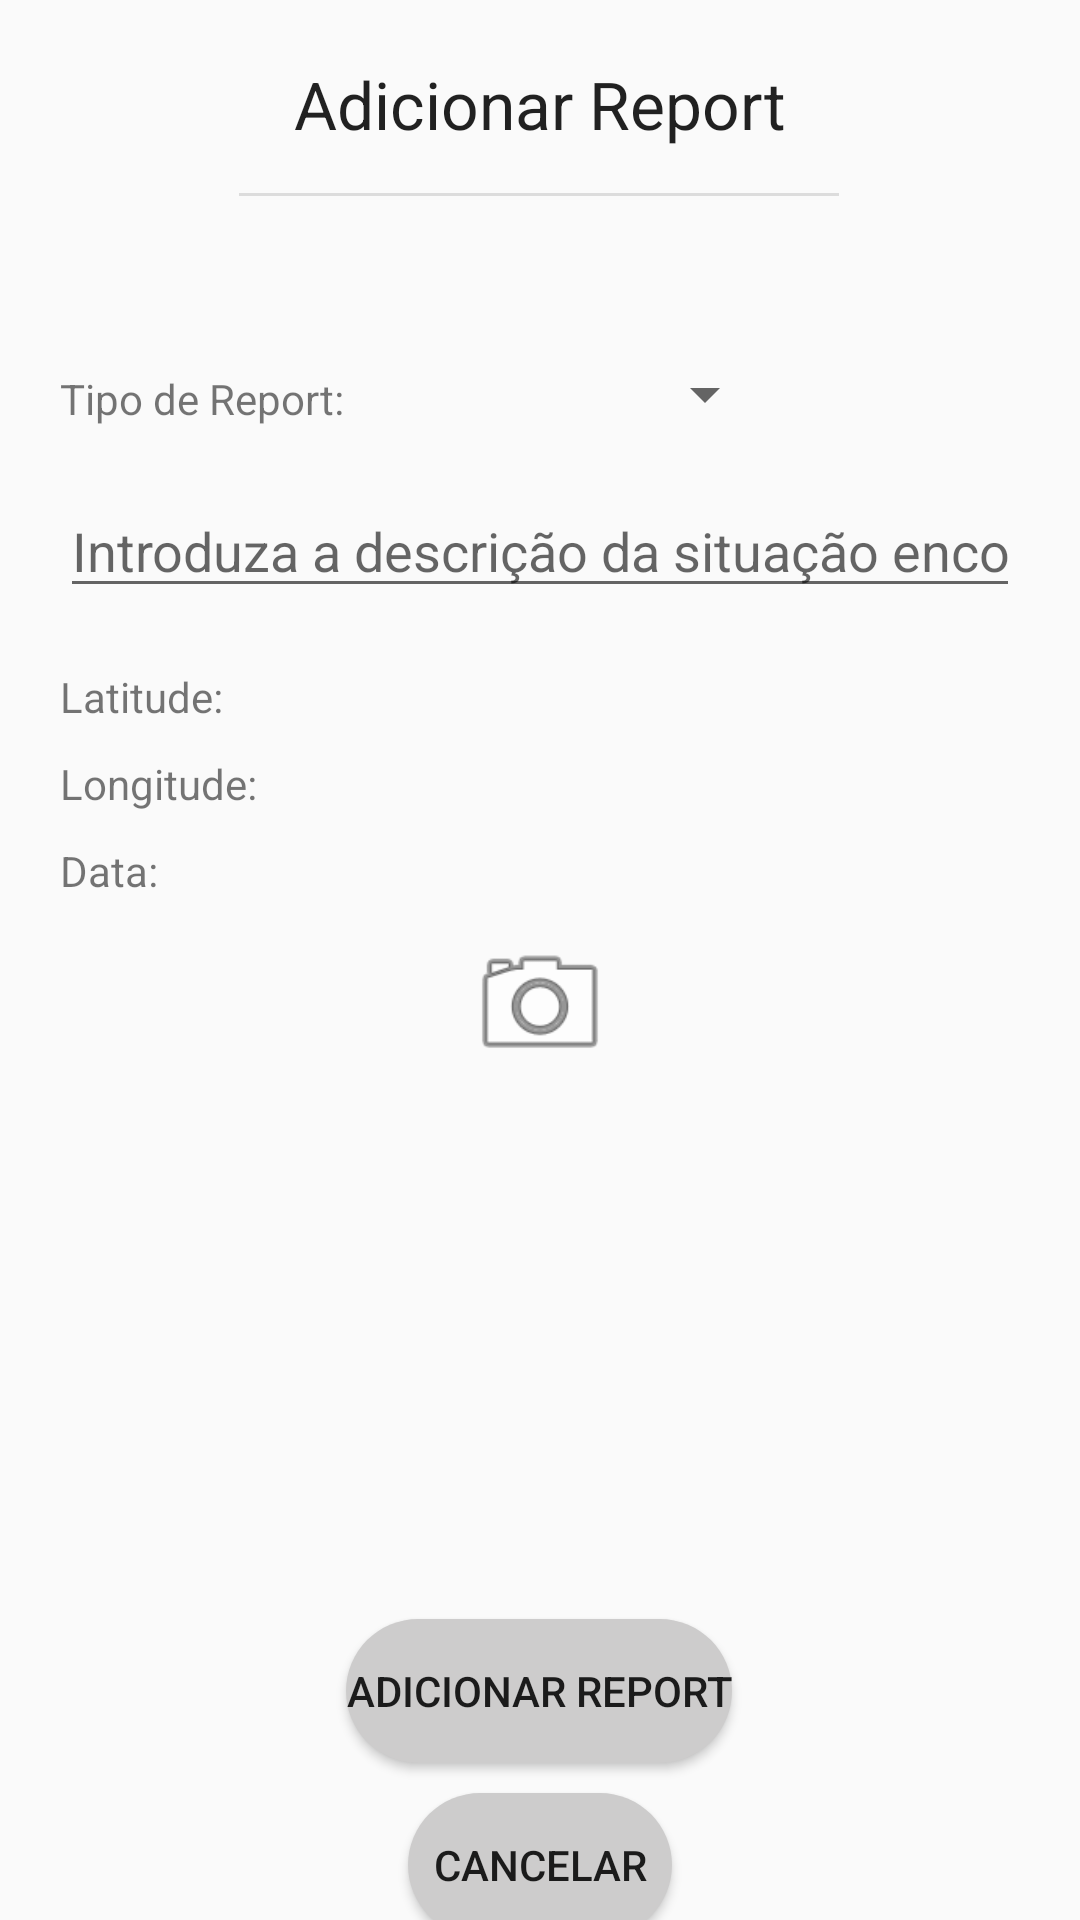

Locate icon controls on the screen. Image size 1080w x 1920h, boxes as (x1,y1,x2,y2).
camera: (482,955,598,1048)
